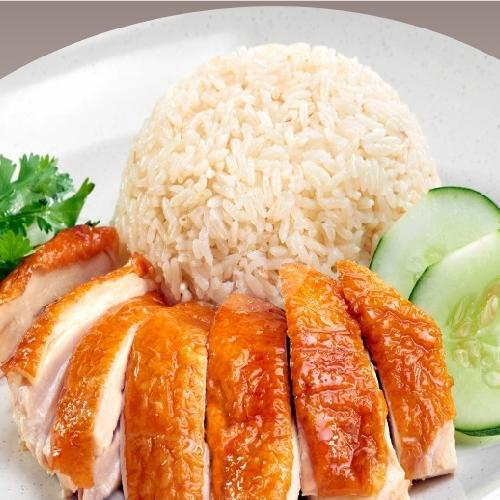daging: (24, 321, 395, 468)
makanan_berpati: (180, 84, 358, 245)
